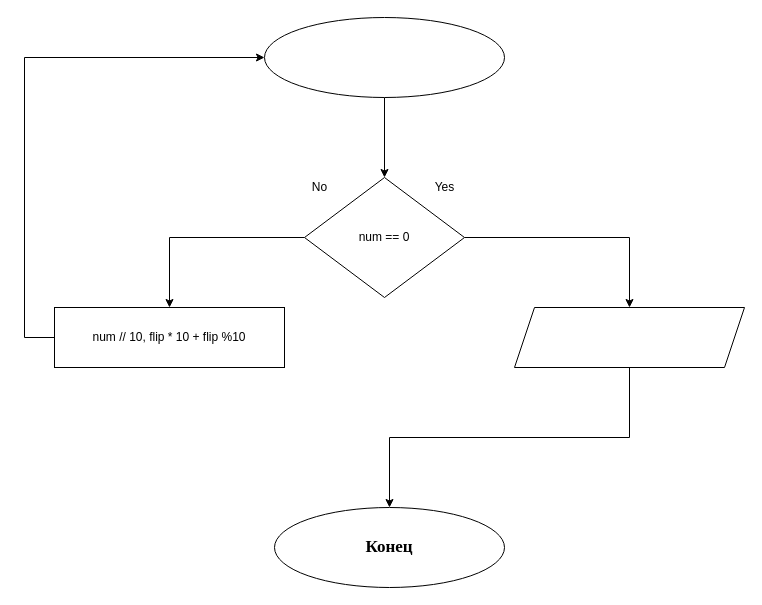
This 762x605 diagram has some shape labels left out. Each missing label, with the centre of its shape:
flip: point (629, 337)
flip_func(num, flip=0): point (384, 57)
